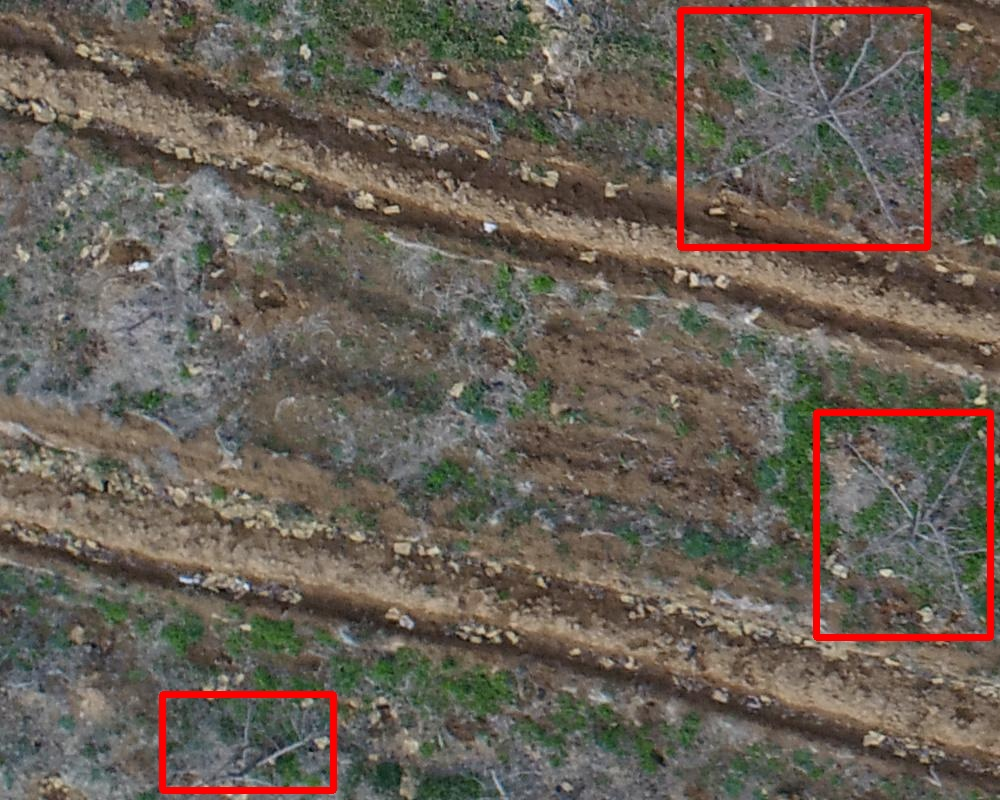apple: (680, 10, 927, 247), (816, 412, 990, 637), (162, 694, 333, 790)
